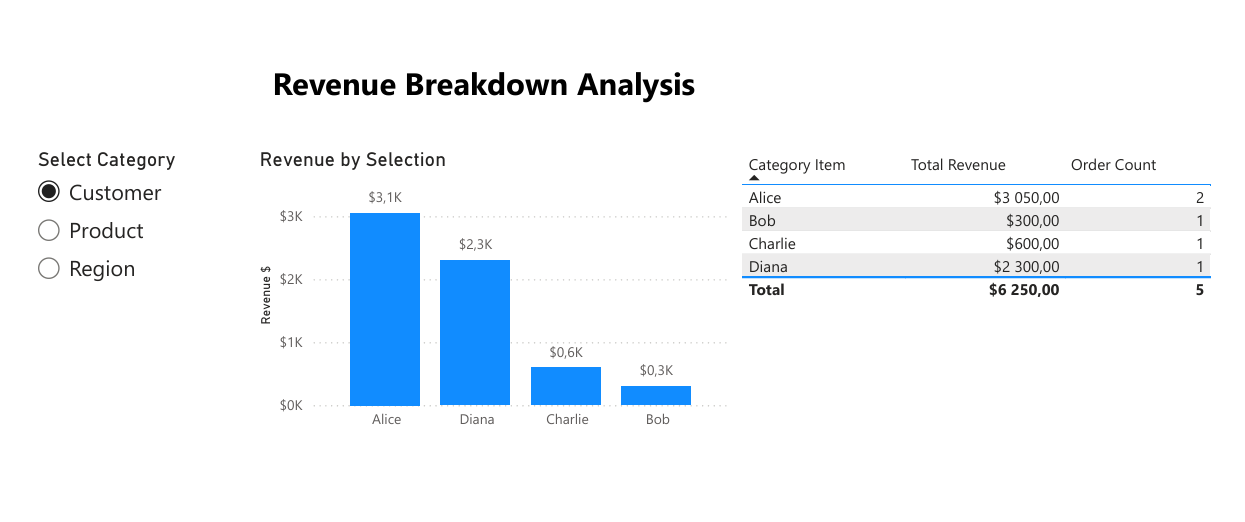

The page's visual inventory and layout, read from the dashboard file:
{"tool":"powerbi","page":{"name":"Breakdown Customer","canvas":[1280,720],"ordinal":2},"visuals":[{"type":"slicer","fields":{"Values":["Supabase Snippet revenue_breakdown sql.breakdown_type"]},"box":[0,107,199.2,139.7],"z":0},{"type":"clusteredColumnChart","title":"Revenue by Selection","fields":{"Category":["Supabase Snippet revenue_breakdown sql.dimension"],"Y":["Sum(Supabase Snippet revenue_breakdown sql.revenue)"]},"box":[199.2,111.3,415.7,252.7],"z":1000},{"type":"tableEx","fields":{"Values":["Supabase Snippet revenue_breakdown sql.dimension","Sum(Supabase Snippet revenue_breakdown sql.revenue)","Sum(Supabase Snippet revenue_breakdown sql.order_count)"]},"box":[615,111.3,415.7,155.3],"z":2000},{"type":"textbox","box":[199.2,32.8,396.8,74.2],"z":2001}]}

Visuals, with their boxes on the page's 1280x720 design canvas (x1, y1, x2, y2). These are canvas units, not pixel positions in the 1245x522 screenshot, which may show the page scaled, cropped or inside an application window:
slicer - Supabase Snippet revenue_breakdown sql.breakdown_type: locate(0, 107, 199, 247)
"Revenue by Selection" clusteredColumnChart: locate(199, 111, 615, 364)
tableEx - Supabase Snippet revenue_breakdown sql.dimension x Sum(Supabase Snippet revenue_breakdown sql.revenue): locate(615, 111, 1031, 267)
textbox: locate(199, 33, 596, 107)
